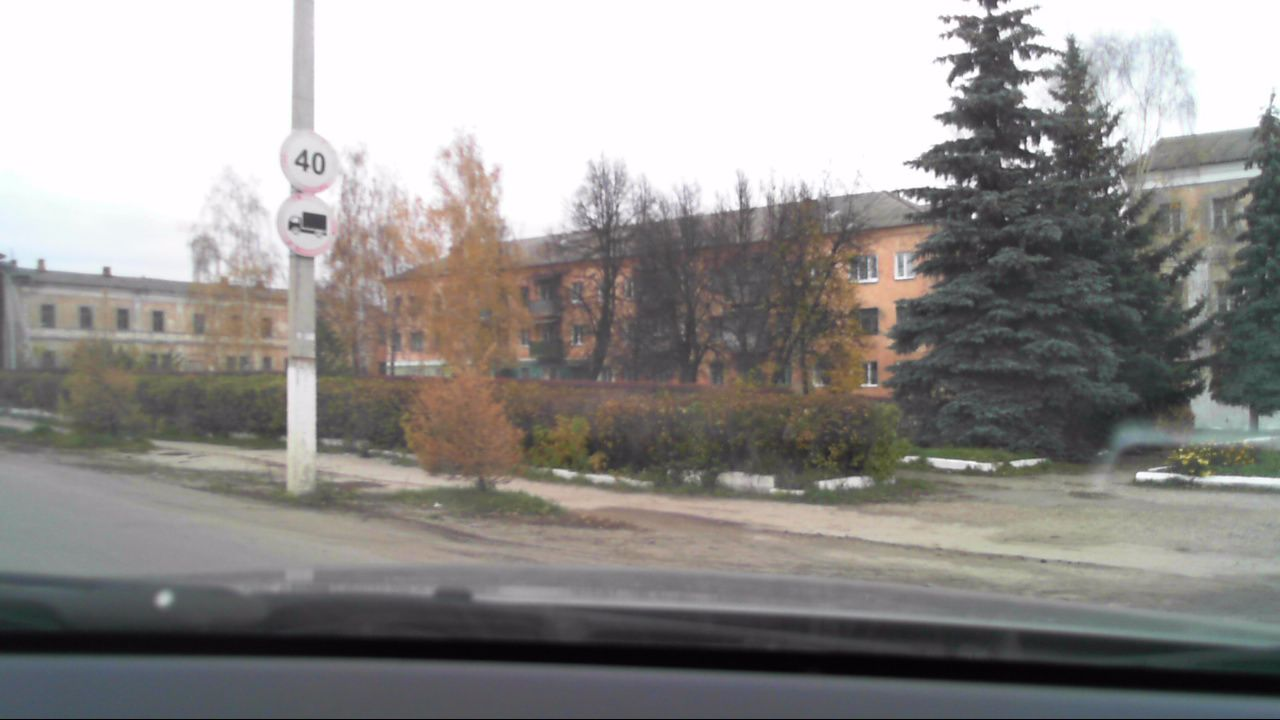speed_warning_40: (279, 127, 334, 195)
